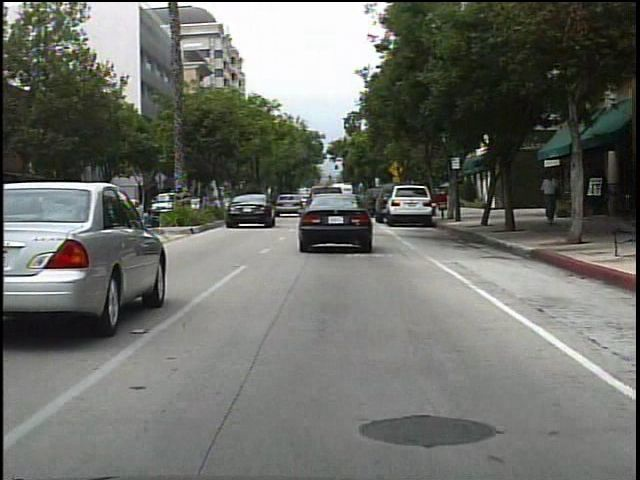person: (537, 170, 564, 228)
